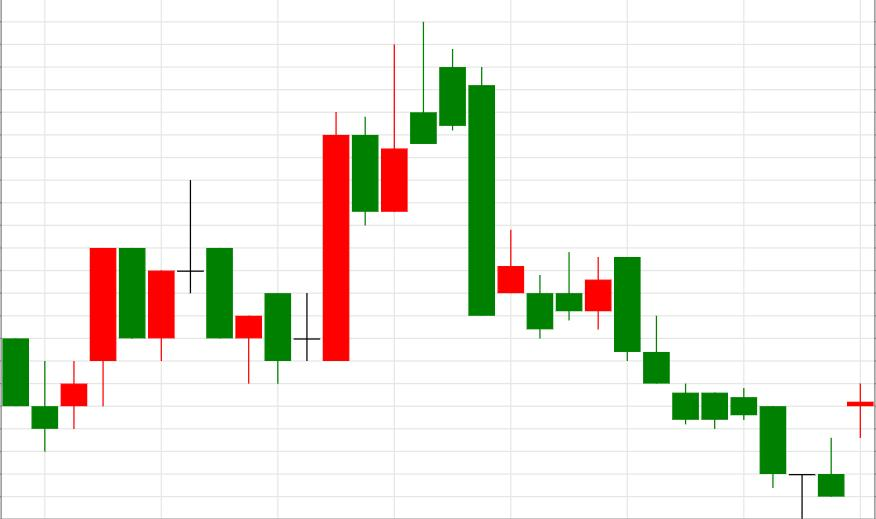shooting_star_fall: (265, 22, 436, 383)
